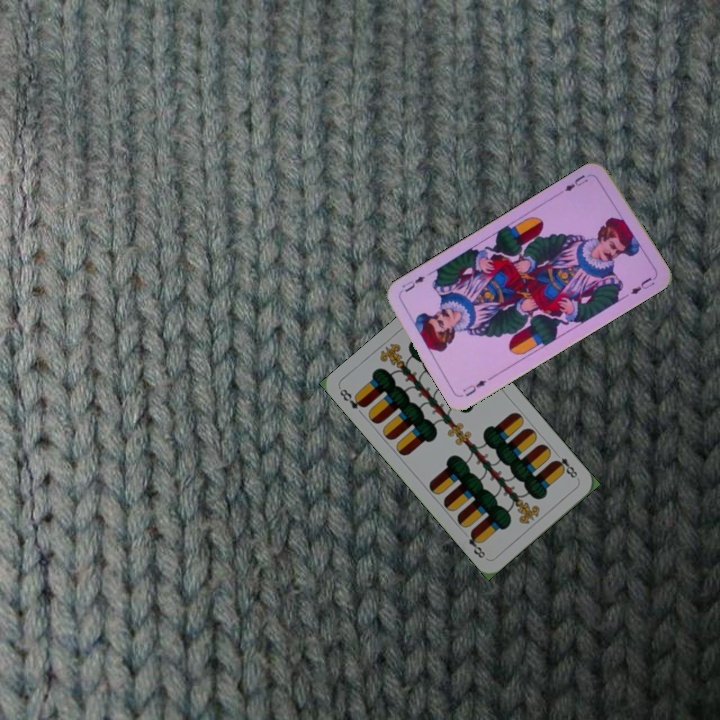E8: (550, 448, 581, 482), (336, 385, 368, 412)
EU: (557, 170, 590, 196), (459, 376, 489, 399)
